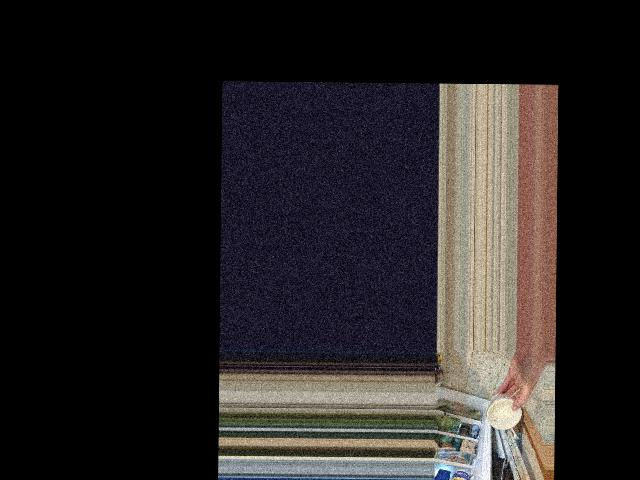cotage: (487, 395, 518, 428)
